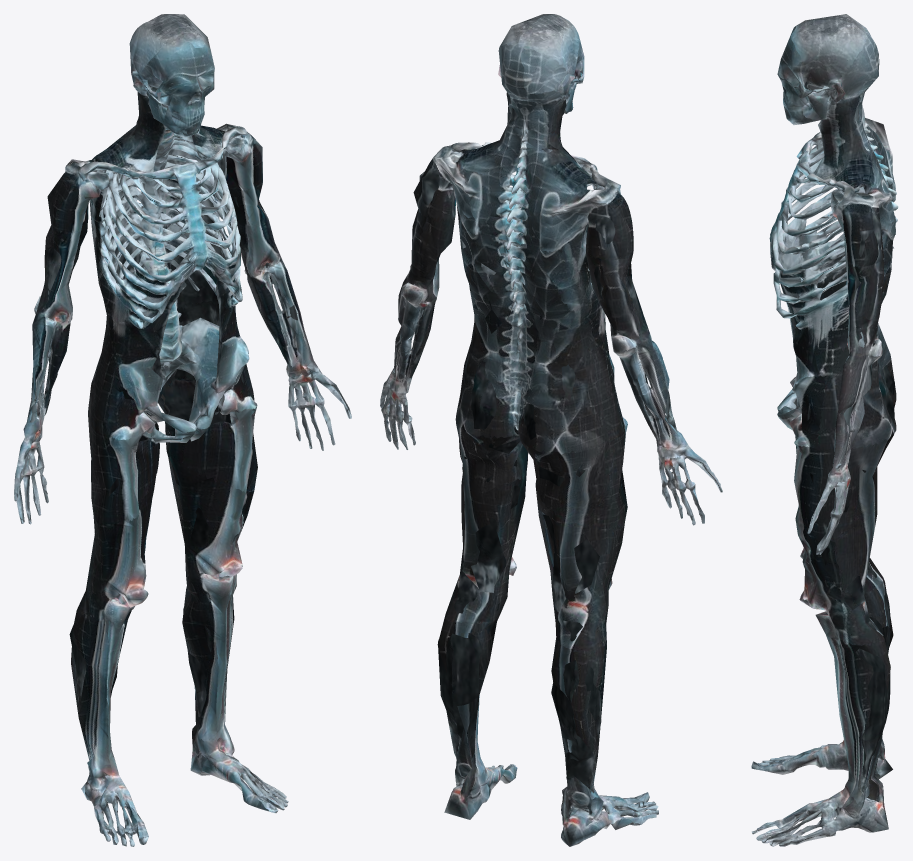
The model's file is body.glb.
The picture shows the model from 3 angles, left to right: view 1: azimuth 30°, elevation 25°; view 2: azimuth 150°, elevation 25°; view 3: azimuth 270°, elevation 25°; orthographic projection.
Parts seen in each view (by area): view 1: body; view 2: body; view 3: body.
Boxes of the visible parts, <box> form: body: <box>14,14,351,846</box>; body: <box>380,14,722,846</box>; body: <box>751,14,898,846</box>.
Size of the model in its own units: 0.8534 by 1.9 by 0.3217.
Materials: 1 (1 with a texture image).
